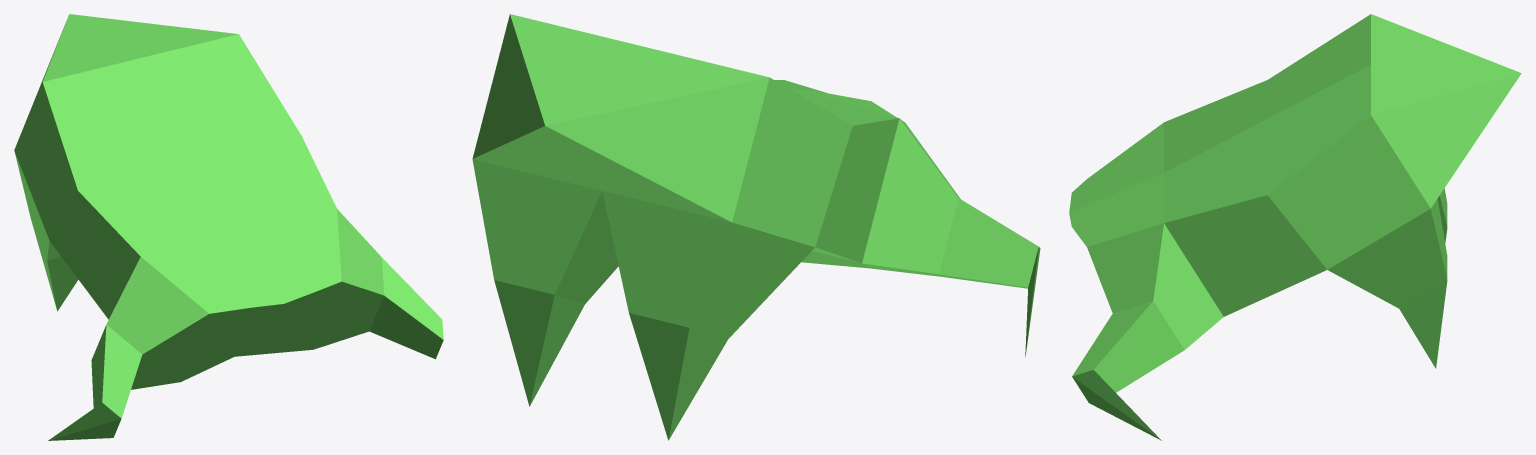
The model's file is Frog.fbx.
The picture shows the model from 3 angles, left to right: view 1: azimuth 30°, elevation 25°; view 2: azimuth 150°, elevation 25°; view 3: azimuth 270°, elevation 25°; orthographic projection. The views are drawn at different scales.
Visible parts, largest first — view 1: Cube; view 2: Cube; view 3: Cube.
Part boxes in pixels (bbox=[...]): Cube: bbox=[14, 14, 443, 440]; Cube: bbox=[472, 14, 1040, 440]; Cube: bbox=[1069, 14, 1521, 440].
Bounding box in the file's own units: 392 × 256 × 379.
